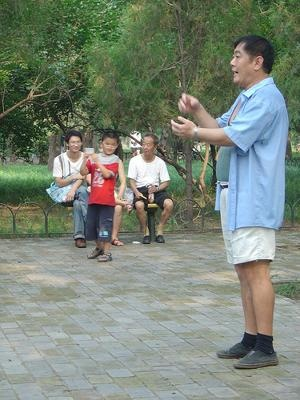person without safety: (207, 33, 295, 375), (127, 130, 177, 246)
